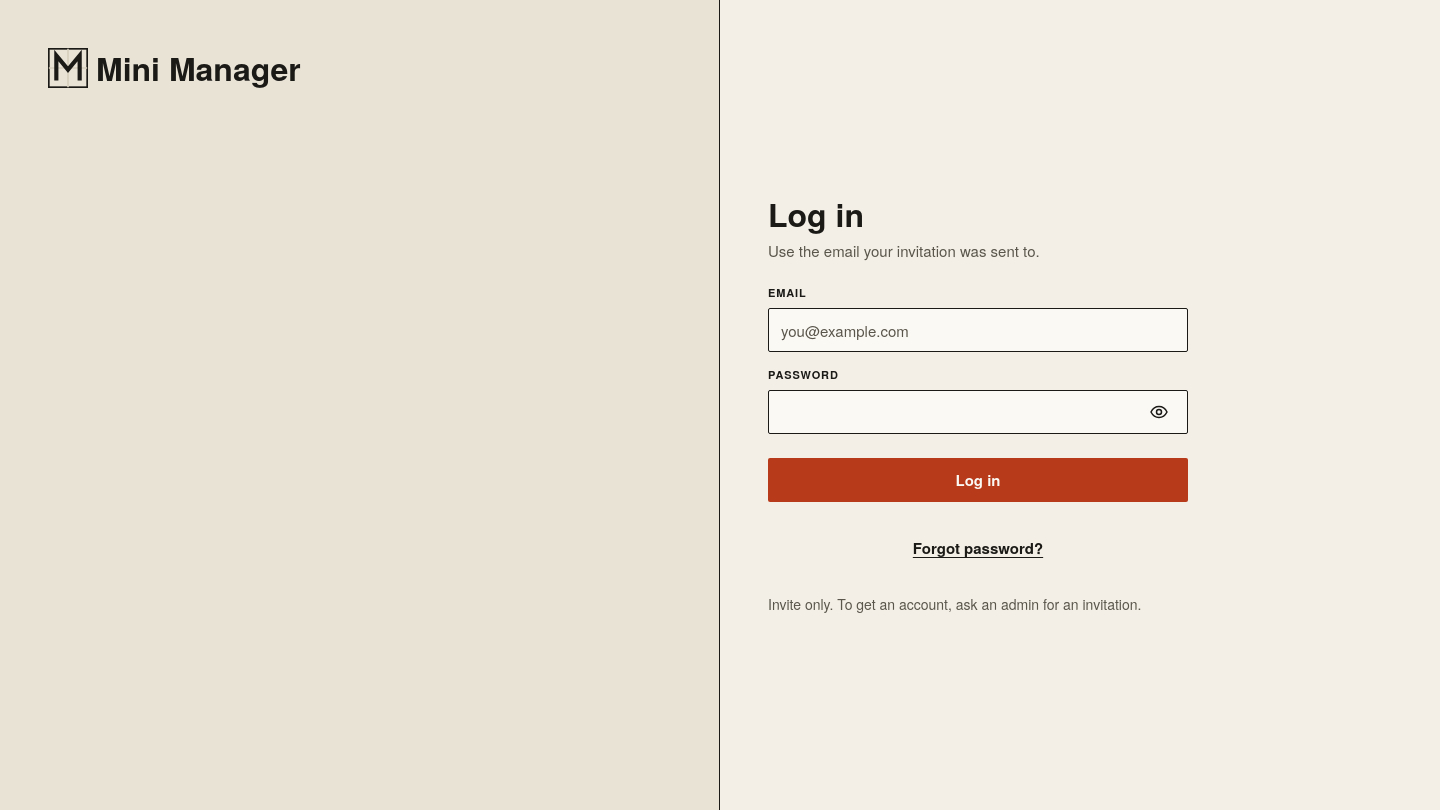
Test: LoginPage › card 2 rule 3: shows the lock message and disables Log in until the email changes
Expected: the heading "Log in" is shown, [768,191,864,237]
Type "mateus@example.com" into the field labelled "Email" at (978, 330), box [781,309,1175,351]
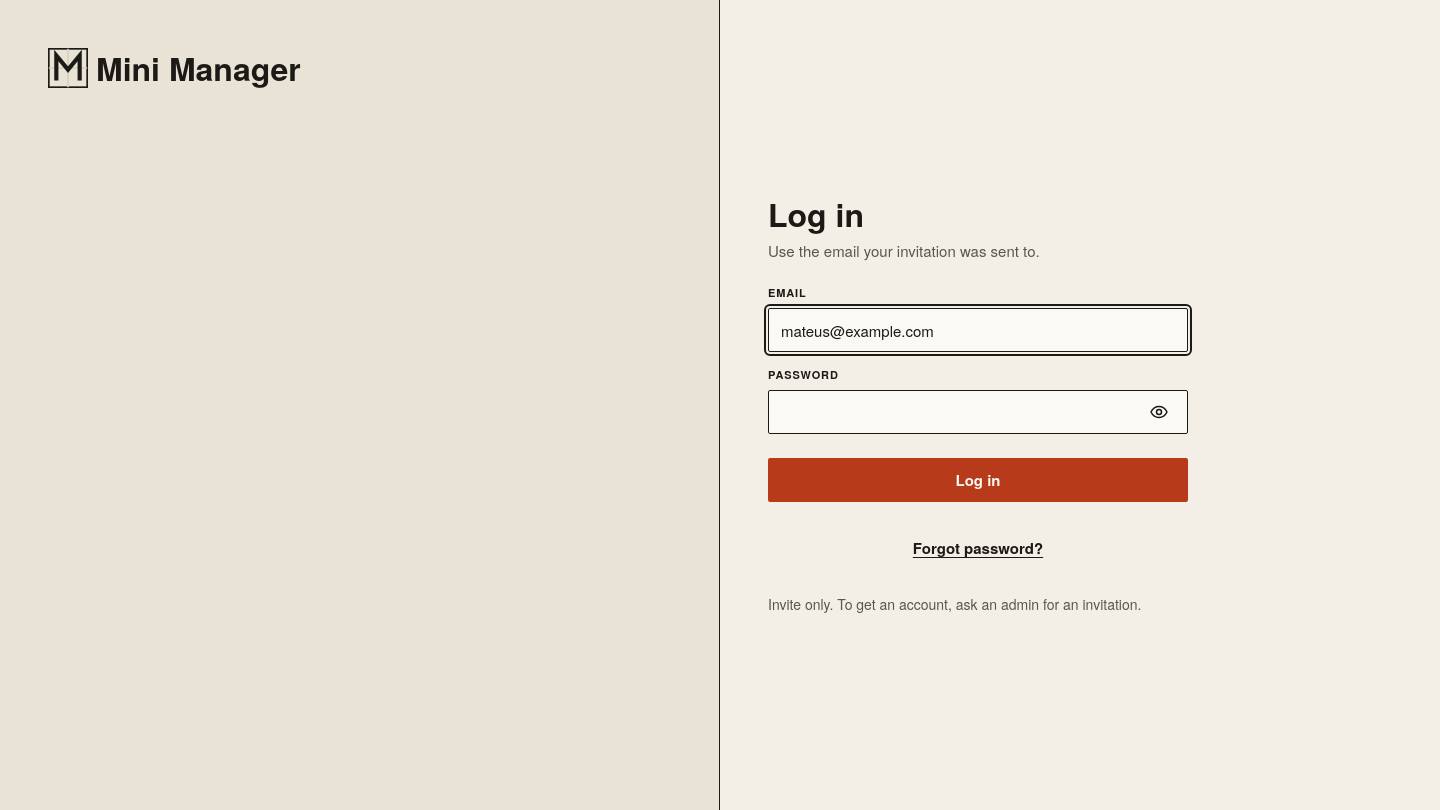
Type "correct horse" into the password field labelled "Password" at (958, 412), box [781,391,1135,433]
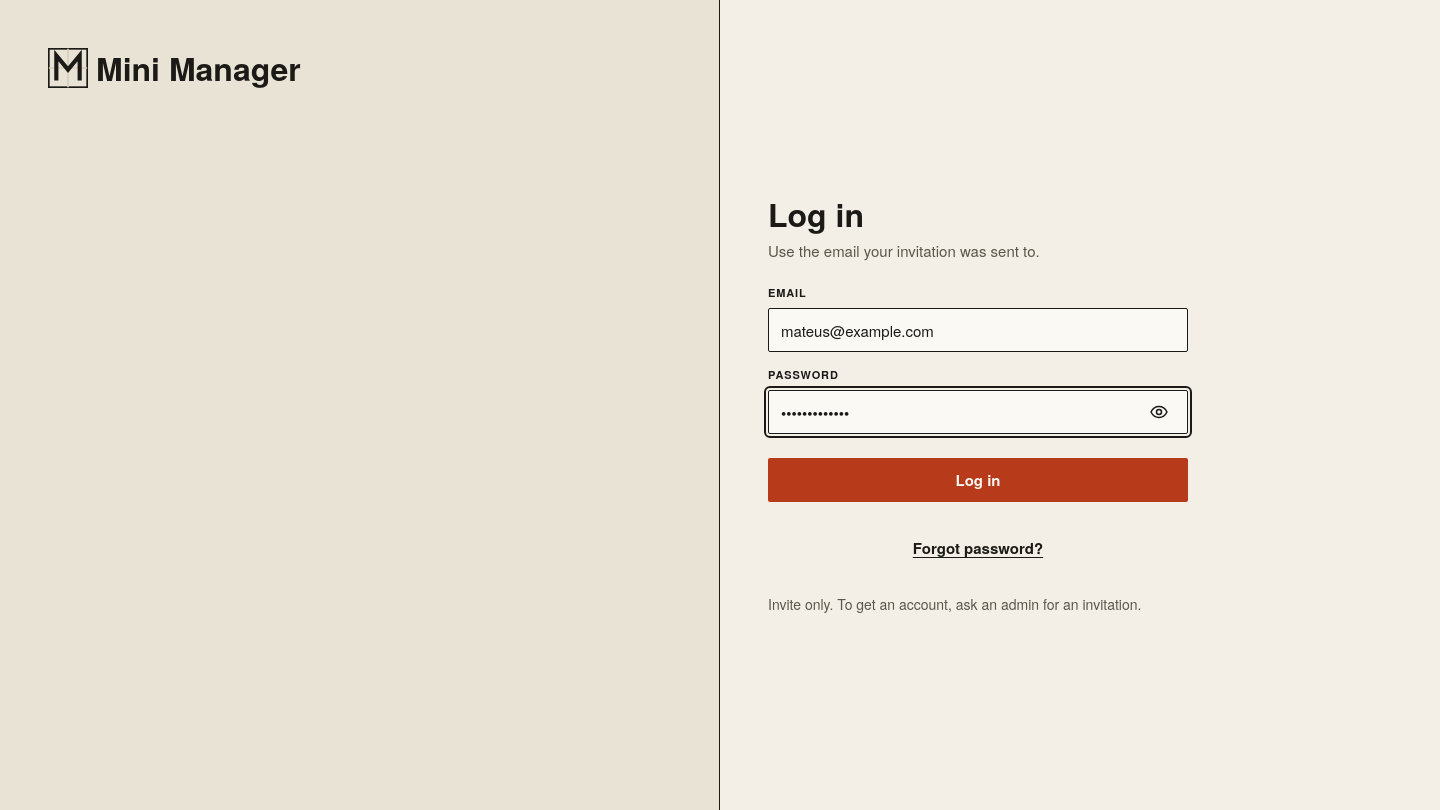
Click the button "Log in" at (978, 480), box [768,458,1188,502]
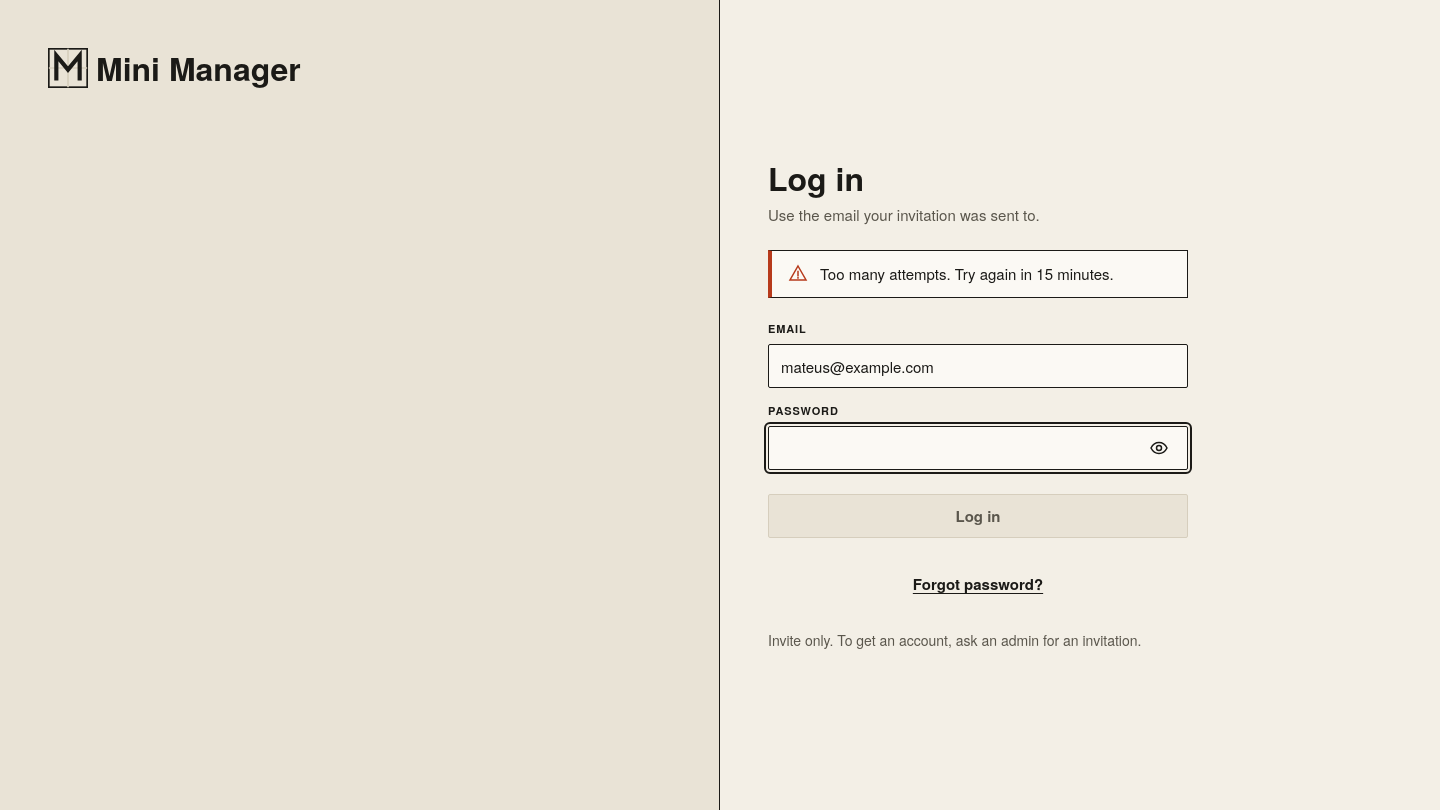
Result: the message reads "Too many attempts. Try again in 15 minutes." at [820,263,1114,284]
Result: the button "Log in" is disabled at [768,494,1188,538]
Type "x" into the field labelled "Email" at (978, 366), box [781,345,1175,387]
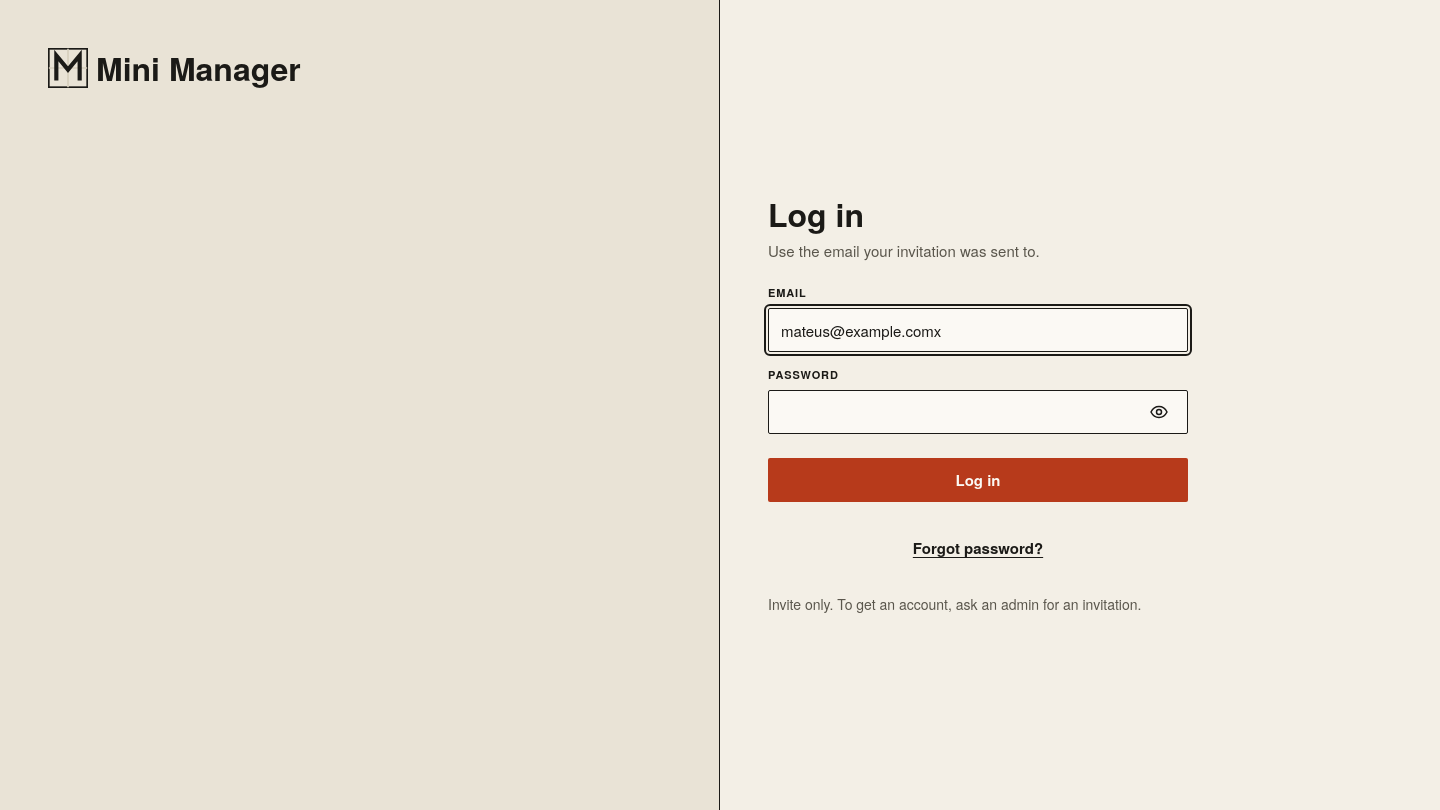
Result: the button "Log in" is enabled at [768,458,1188,502]
